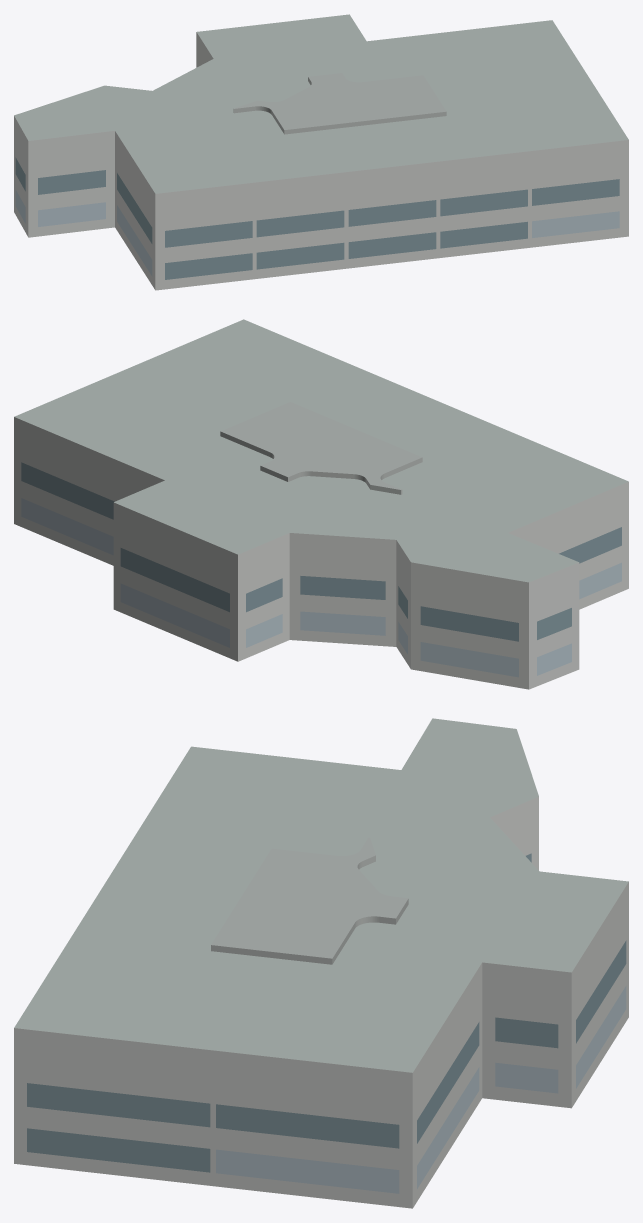
The model's file is named-apt-acaad8c0-681f-499a-8049-549cffeaddf4.glb.
3 views of the same model, one above another, from view 1: azimuth 30°, elevation 25°; view 2: azimuth 150°, elevation 25°; view 3: azimuth 270°, elevation 25° (orthographic). The views are drawn at different scales.
Parts seen in each view (by area): view 1: named-apt-acaad8c0-681f-499a-8049-549cffeaddf4; view 2: named-apt-acaad8c0-681f-499a-8049-549cffeaddf4; view 3: named-apt-acaad8c0-681f-499a-8049-549cffeaddf4.
Part boxes in pixels (x1,y1,x2,y2): named-apt-acaad8c0-681f-499a-8049-549cffeaddf4: (14, 14, 628, 290); named-apt-acaad8c0-681f-499a-8049-549cffeaddf4: (14, 319, 628, 689); named-apt-acaad8c0-681f-499a-8049-549cffeaddf4: (14, 718, 628, 1208).
Bounding box in the file's own units: 51.23 × 9.56 × 37.56.
